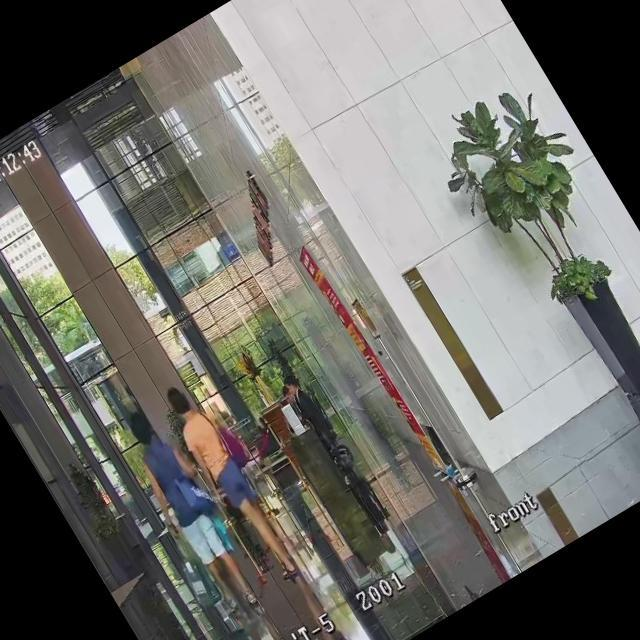person: (110, 400, 278, 634), (156, 376, 306, 591), (275, 365, 346, 457)
